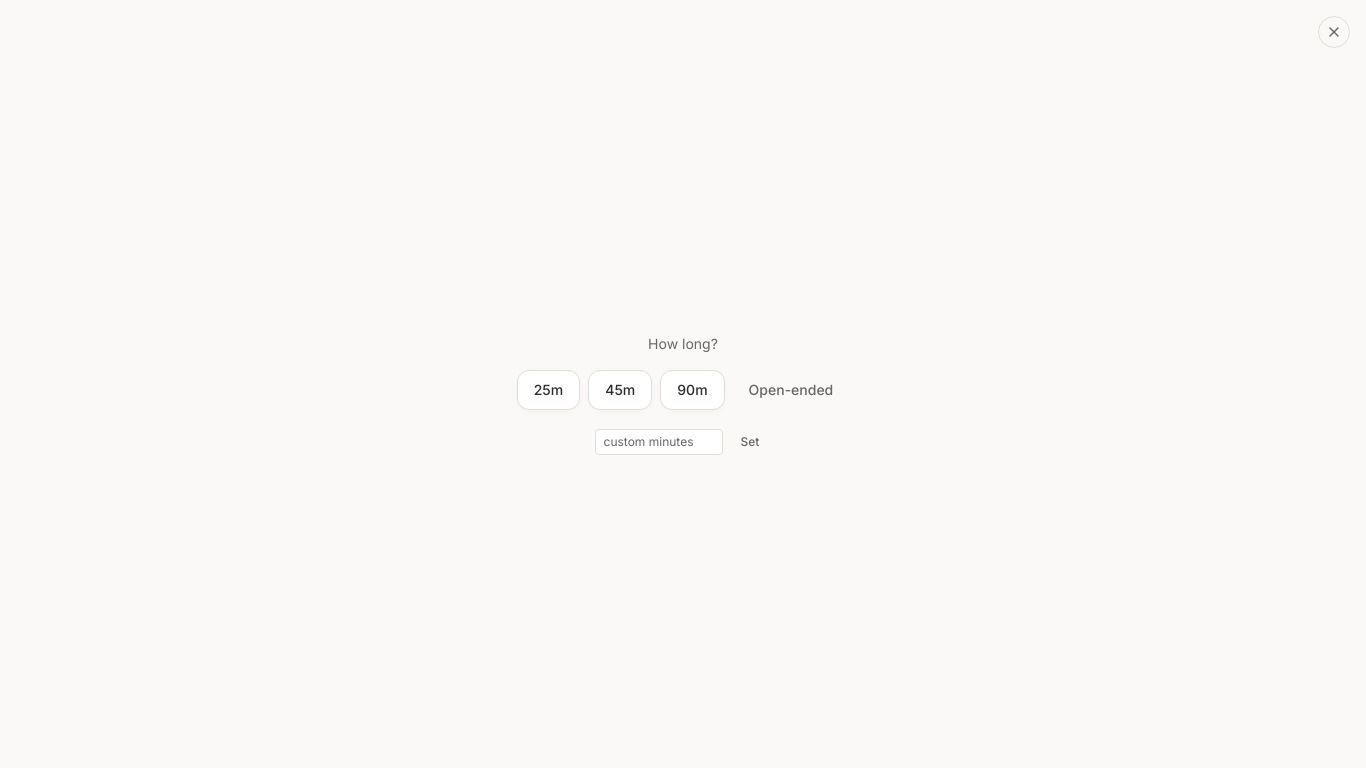
FocusMode › open-ended mode starts the clock at 0:00 counting up
Click the button with test id "focus-duration-open-ended" at (791, 390), box x1=733 y1=370 x2=849 y2=410
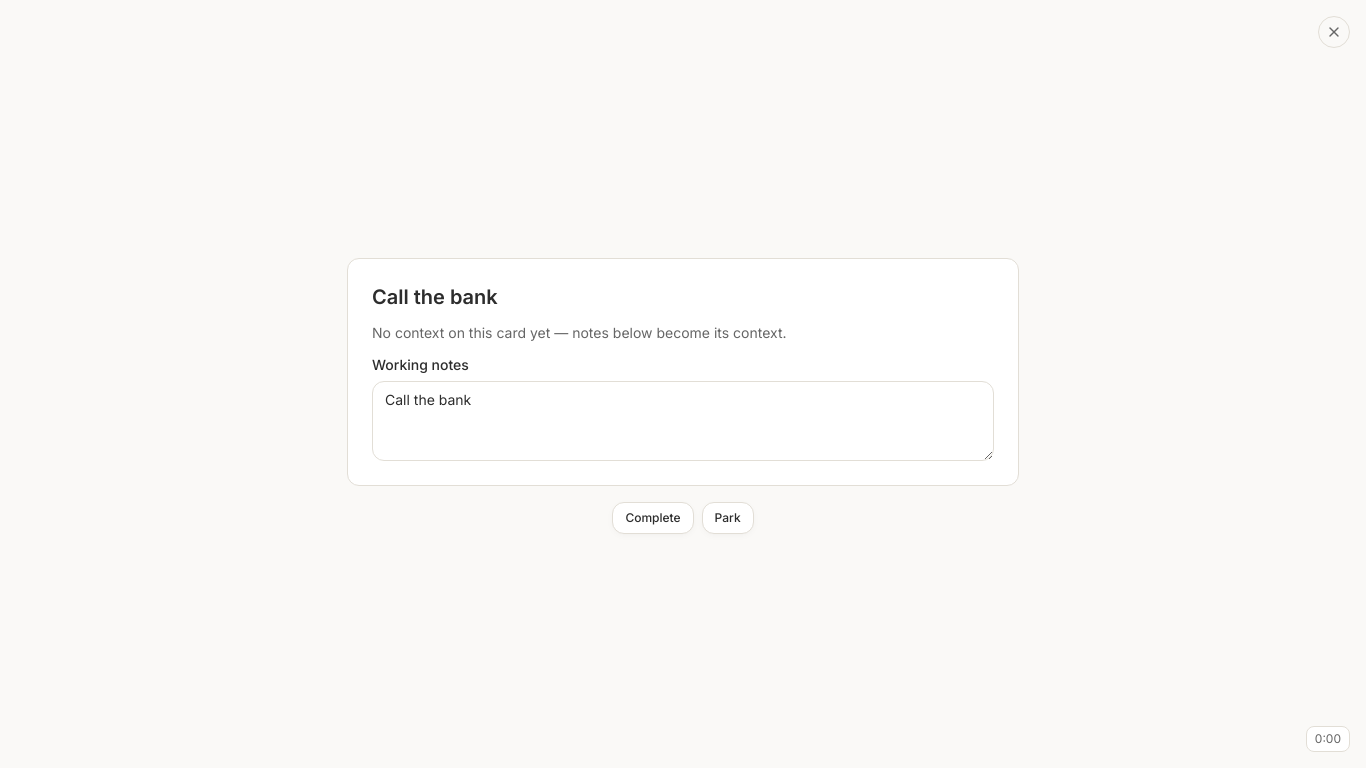
Expected: the text with test id "focus-mode-clock" reads "0:00", x1=1315 y1=731 x2=1341 y2=746
